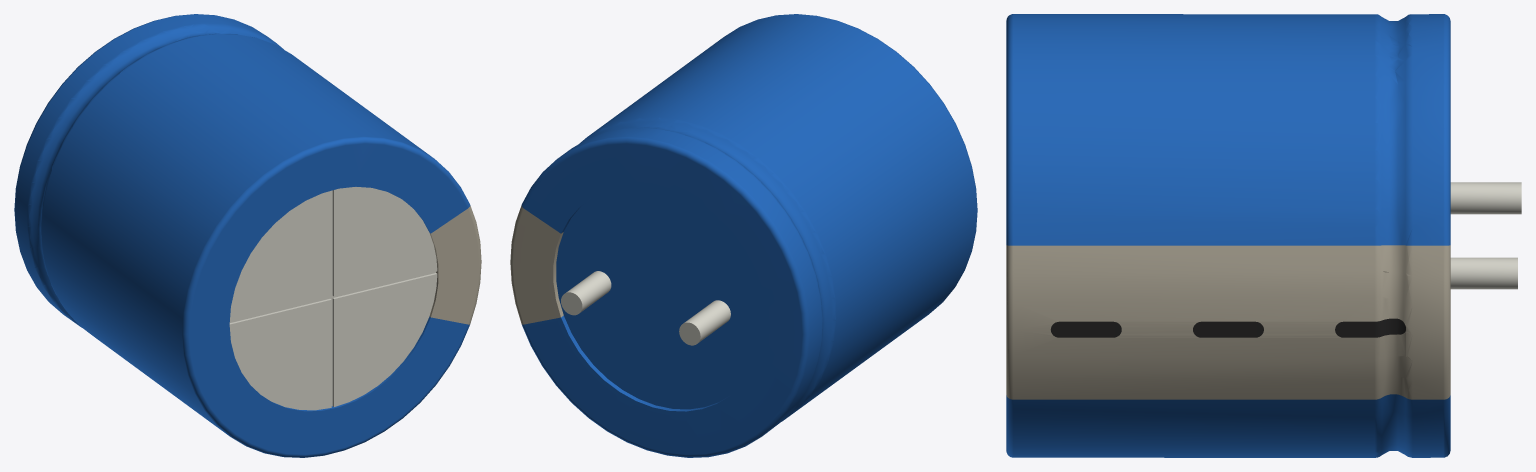
The model's file is cp-radial-d12.5-p5.00.glb.
3 views of the same model, side by side, from view 1: azimuth 30°, elevation 25°; view 2: azimuth 150°, elevation 25°; view 3: azimuth 270°, elevation 25° (orthographic). The views are drawn at different scales.
Parts seen in each view (by area): view 1: PLASTIC-BLUE-01, PIN-01, IC-LABEL-01; view 2: PLASTIC-BLUE-01, IC-LABEL-01, PIN-01; view 3: PLASTIC-BLUE-01, IC-LABEL-01, PIN-01, IC-BODY-EPOXY-04.
Part boxes in pixels (x1,y1,x2,y2): PLASTIC-BLUE-01: [14, 14, 470, 457]; PIN-01: [229, 187, 437, 410]; IC-LABEL-01: [429, 205, 481, 324]; PLASTIC-BLUE-01: [521, 14, 977, 457]; IC-LABEL-01: [510, 205, 563, 324]; PIN-01: [561, 271, 730, 345]; PLASTIC-BLUE-01: [1006, 14, 1450, 457]; IC-LABEL-01: [1006, 245, 1450, 399]; PIN-01: [1450, 182, 1521, 289]; IC-BODY-EPOXY-04: [1050, 318, 1405, 337].
Size of the model in its own units: 12.5 by 12.49 by 14.5.
